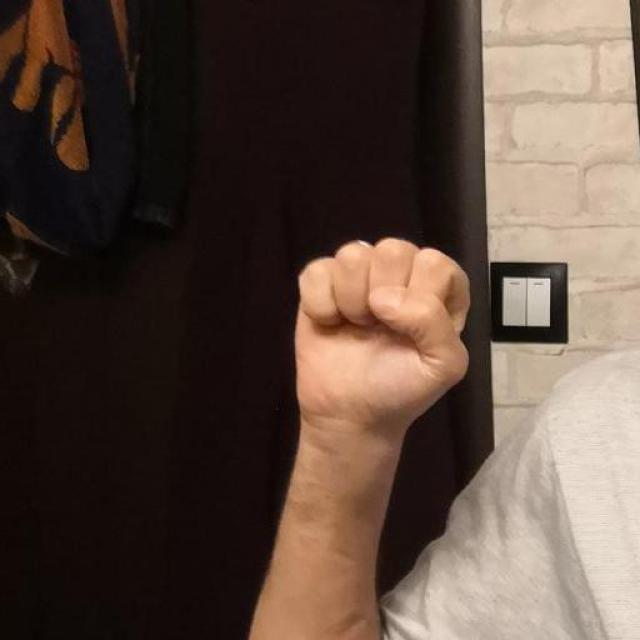hand: (291, 235, 471, 437)
